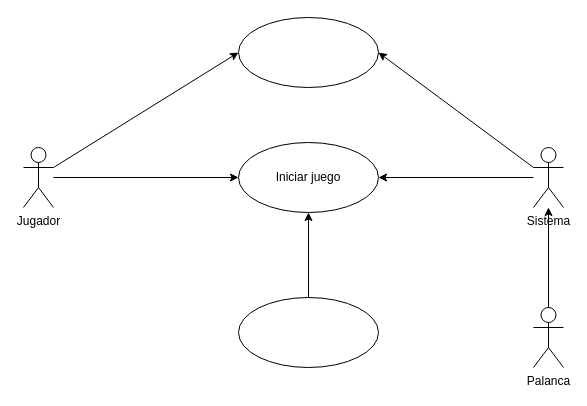
Some shapes in this 587 by 406 pixel diagram are drawn without their labels. The centre of each missing label's shape, as x and y in pixels:
Almacenar puntaje: point 308,332
Ingresar el nombre: point 308,52
